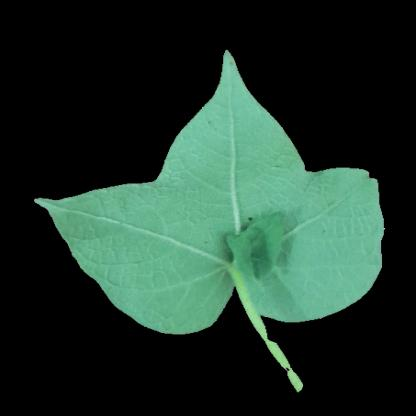curl_stage2: (69, 197, 205, 288), (298, 176, 370, 297), (203, 110, 280, 199), (133, 283, 222, 326), (166, 150, 209, 202)
leaf_enation: (210, 205, 298, 287)
